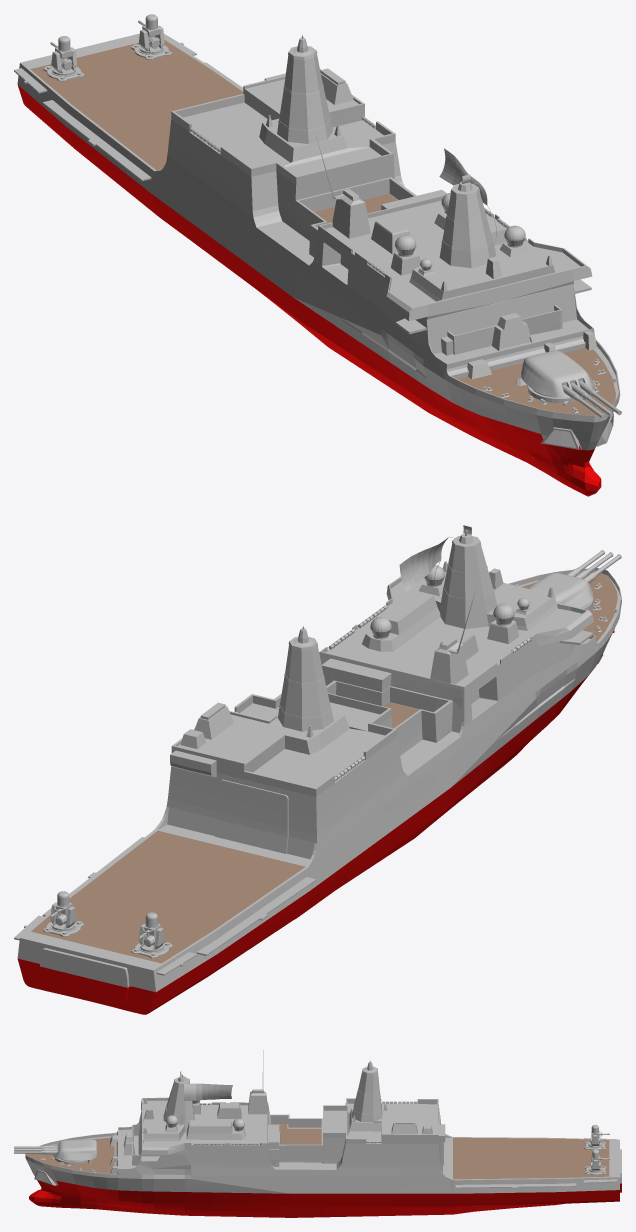
Rendered from middle_classic2.fbx.
The picture shows the model from 3 angles, top to bottom: view 1: azimuth 30°, elevation 25°; view 2: azimuth 150°, elevation 25°; view 3: azimuth 270°, elevation 25°; orthographic projection. The views are drawn at different scales.
Parts seen in each view (by area): view 1: middle_classic2; view 2: middle_classic2; view 3: middle_classic2.
Part boxes in pixels (bbox=[...]): middle_classic2: bbox=[14, 14, 621, 496]; middle_classic2: bbox=[14, 525, 621, 1014]; middle_classic2: bbox=[14, 1050, 621, 1217].
Size of the model in its own units: 955 by 1251 by 4733.
